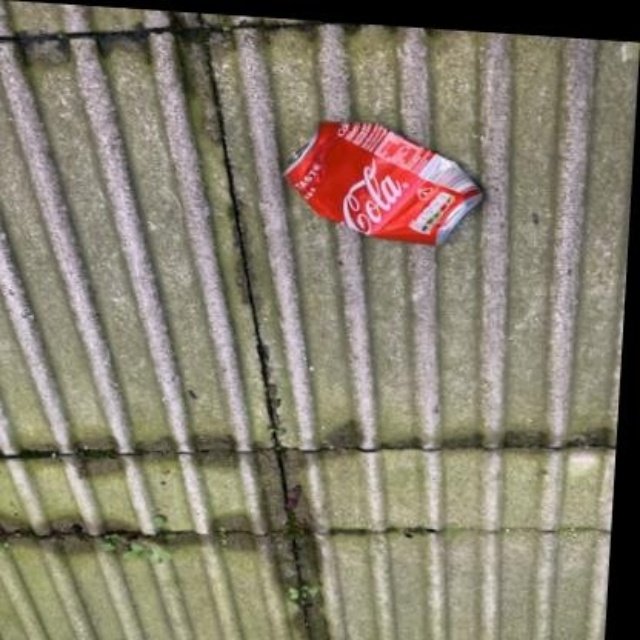trash: (285, 123, 482, 245)
